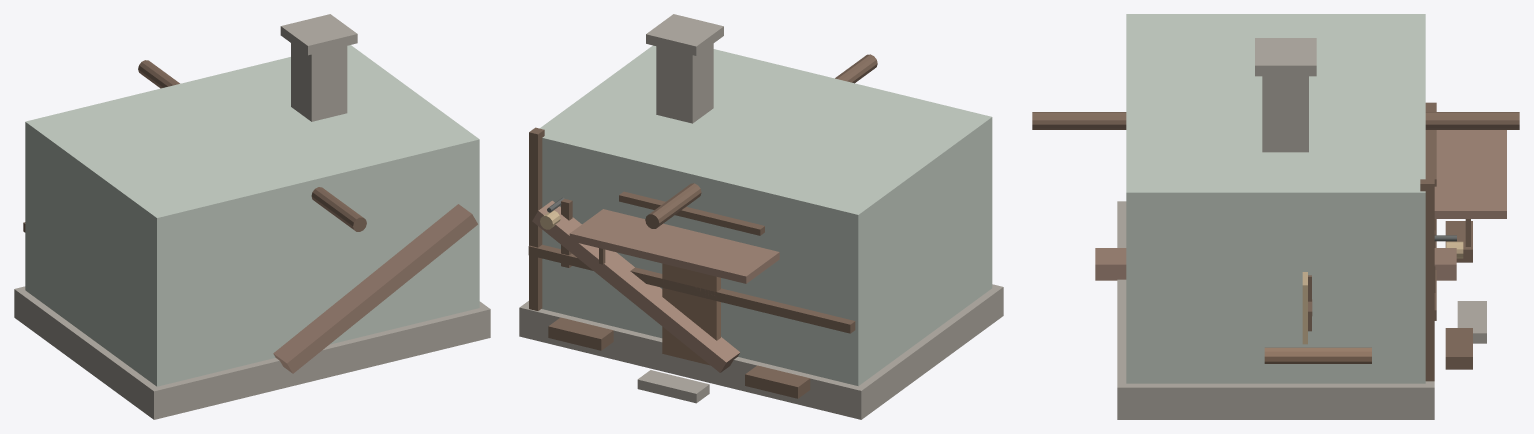
The model's file is cottage_B.glb.
3 views of the same model, side by side, from view 1: azimuth 30°, elevation 25°; view 2: azimuth 150°, elevation 25°; view 3: azimuth 270°, elevation 25° (orthographic). The views are drawn at different scales.
Parts seen in each view (by area): view 1: plastered_walls, stone_foundation, roof_slope, chimney, chimney_cap, ridge_cap; view 2: plastered_walls, stone_foundation, shop_awning, roof_slope, chimney, front_timber, door, corner_timber, chimney_cap, ridge_cap, front_step, upper_gable (+2 smaller); view 3: plastered_walls, stone_foundation, shop_awning, chimney, ridge_cap, chimney_cap, corner_timber, firewood, roof_slope, planter_right, front_step, upper_gable (+1 smaller).
Boxes of the visible parts, box(x1,y1,x2,y2) form: plastered_walls: box(25, 45, 479, 386); stone_foundation: box(14, 286, 490, 419); roof_slope: box(273, 204, 477, 373); chimney: box(291, 43, 347, 121); chimney_cap: box(280, 14, 357, 55); ridge_cap: box(138, 60, 366, 231); plastered_walls: box(539, 45, 992, 386); stone_foundation: box(519, 284, 1003, 419); shop_awning: box(569, 209, 779, 283); roof_slope: box(532, 200, 740, 372); chimney: box(656, 43, 713, 123); front_timber: box(528, 244, 855, 333); door: box(662, 263, 720, 365); corner_timber: box(529, 127, 544, 310); chimney_cap: box(646, 14, 723, 55); ridge_cap: box(645, 54, 877, 228); front_step: box(637, 370, 709, 403); upper_gable: box(619, 191, 764, 235); plastered_walls: box(1126, 14, 1425, 383); stone_foundation: box(1117, 201, 1434, 419); shop_awning: box(1434, 130, 1506, 218); chimney: box(1262, 76, 1308, 152); ridge_cap: box(1032, 112, 1519, 129); chimney_cap: box(1255, 38, 1316, 76); corner_timber: box(1420, 179, 1434, 381); firewood: box(1264, 347, 1371, 363); roof_slope: box(1095, 248, 1456, 280); planter_right: box(1445, 328, 1472, 369); front_step: box(1457, 301, 1486, 343); upper_gable: box(1425, 102, 1436, 186).
Bounding box in the file's own units: 7.12 × 5.35 × 7.5.
